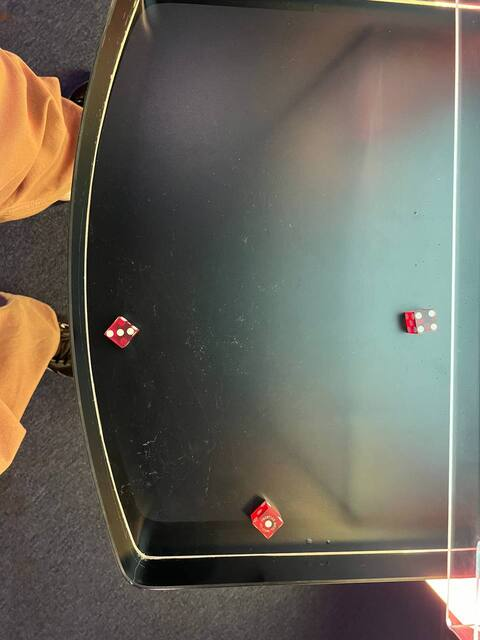four: (412, 307, 442, 336)
one: (253, 508, 285, 539)
three: (102, 318, 139, 353)
